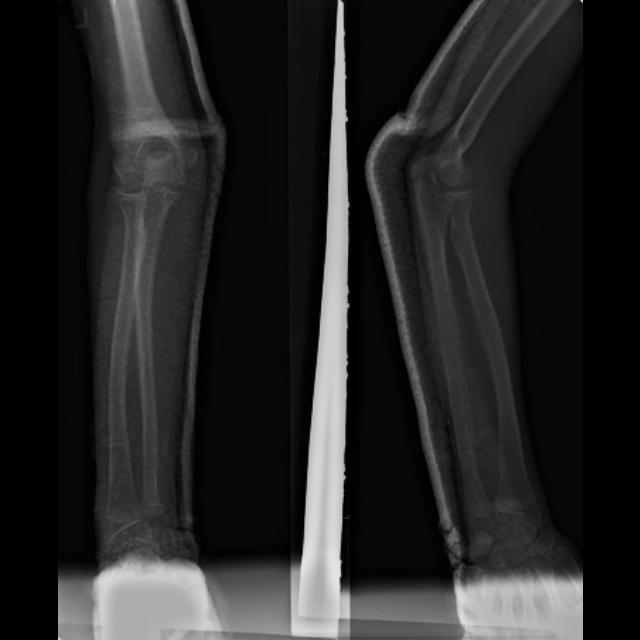Fracture: (107, 433, 133, 454), (455, 438, 478, 456)
